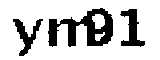1: (116, 5, 151, 51)
9: (84, 7, 116, 47)
m: (44, 16, 96, 53)
y: (10, 14, 42, 60)
